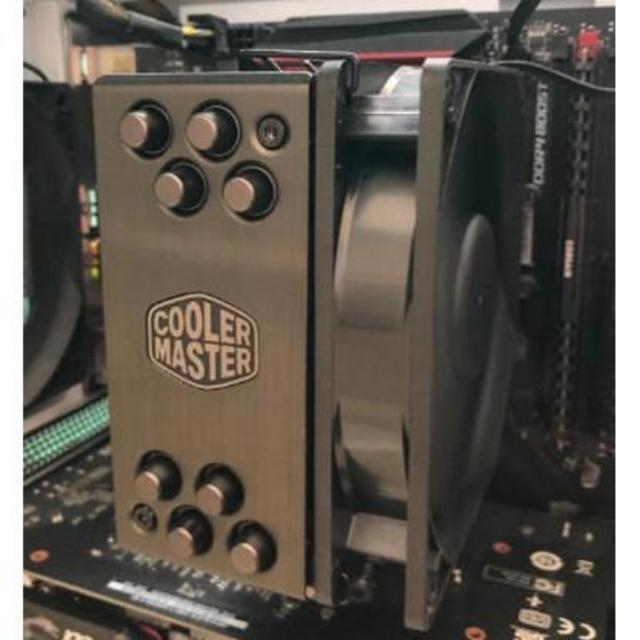CPU_Fan: (102, 58, 516, 626)
